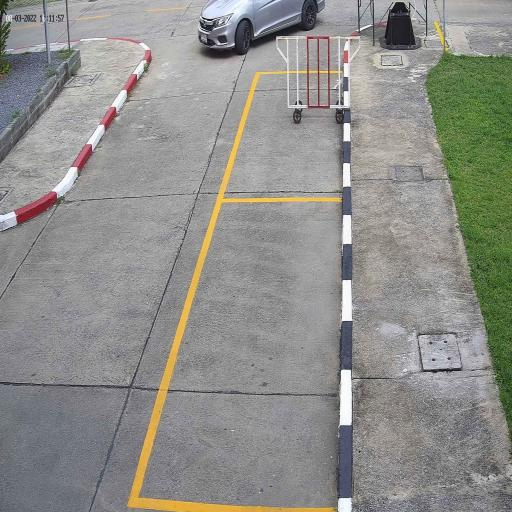car: (197, 0, 326, 55)
